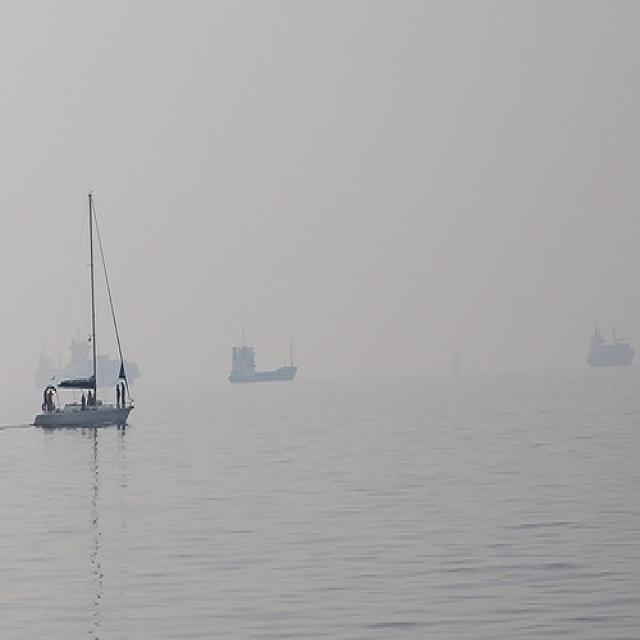boat: (24, 170, 138, 439), (32, 332, 138, 389), (224, 328, 297, 380), (589, 328, 636, 373)
